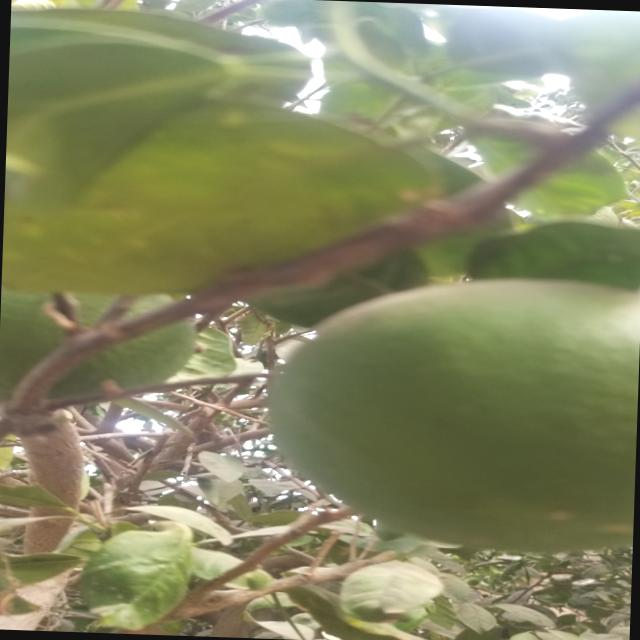Unripe: (250, 276, 640, 543)
